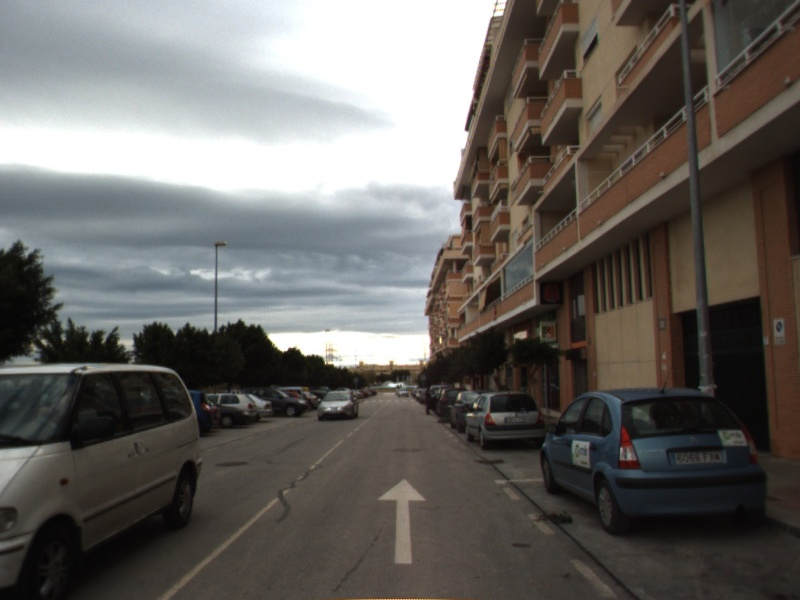STRAIGHT: (375, 476, 428, 566)
